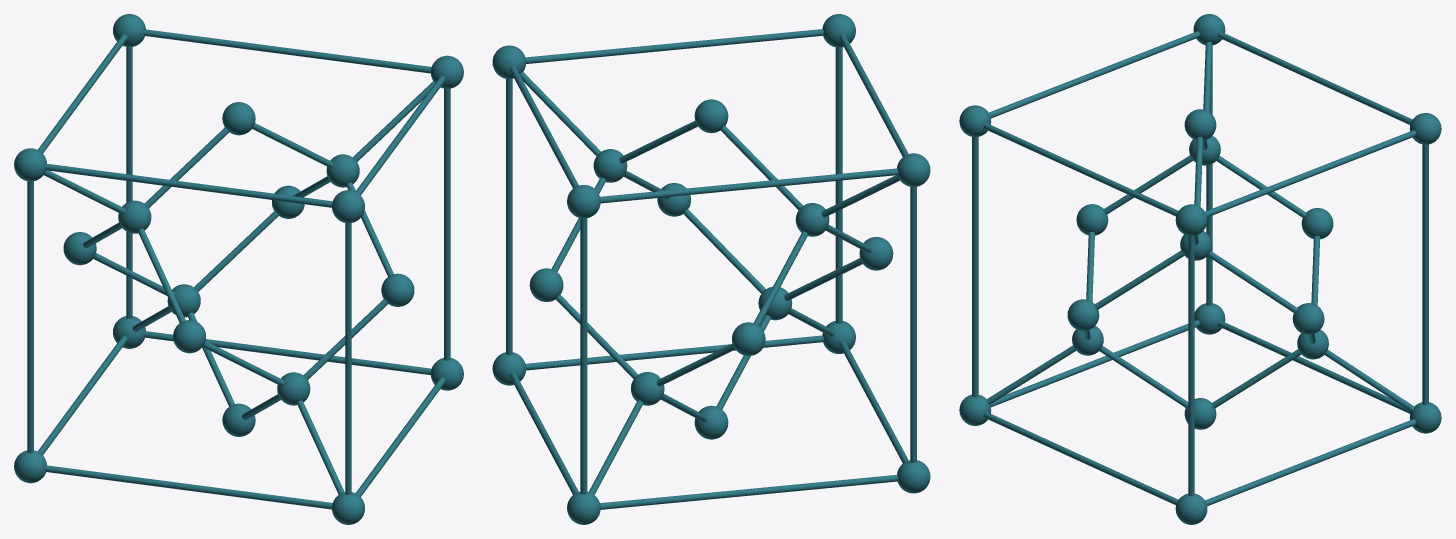
The model's file is diamond6.glb.
The picture shows the model from 3 angles, left to right: view 1: azimuth 30°, elevation 25°; view 2: azimuth 150°, elevation 25°; view 3: azimuth 270°, elevation 25°; orthographic projection. The views are drawn at different scales.
Visible parts, largest first — view 1: ZnS Unit Cell; view 2: ZnS Unit Cell; view 3: ZnS Unit Cell.
Boxes of the visible parts, x1=… form: ZnS Unit Cell: x1=14, y1=14, x2=463, y2=524; ZnS Unit Cell: x1=492, y1=14, x2=930, y2=524; ZnS Unit Cell: x1=959, y1=14, x2=1441, y2=524.
Bounding box in the file's own units: 0.3026 × 0.22 × 0.3026.
